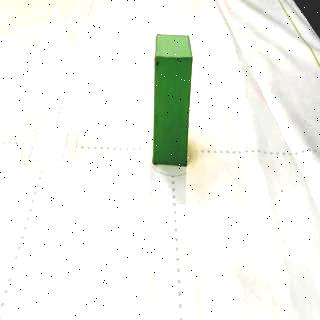greenbox: (149, 30, 195, 168)
